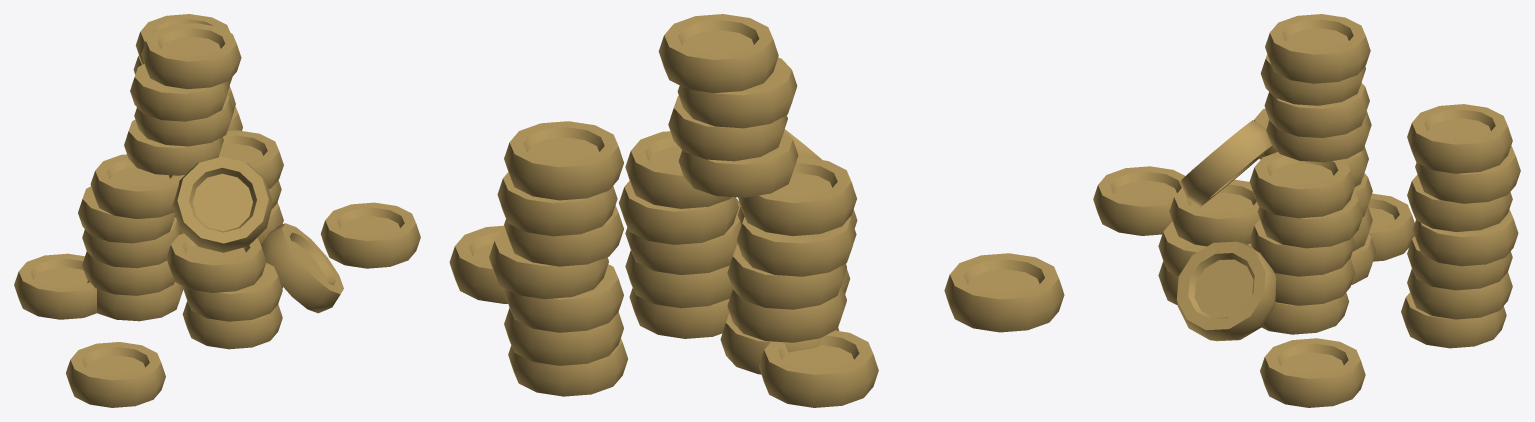
File: kaykit-coinslarge.glb
The picture shows the model from 3 angles, left to right: view 1: azimuth 30°, elevation 25°; view 2: azimuth 150°, elevation 25°; view 3: azimuth 270°, elevation 25°; orthographic projection. The views are drawn at different scales.
Visible parts, largest first — view 1: coinsLarge; view 2: coinsLarge; view 3: coinsLarge.
Part boxes in pixels (x1,y1,x2,y2): coinsLarge: [14, 14, 420, 407]; coinsLarge: [449, 14, 1064, 407]; coinsLarge: [1093, 14, 1520, 407].
Size of the model in its own units: 1.59 by 0.9075 by 1.33.
